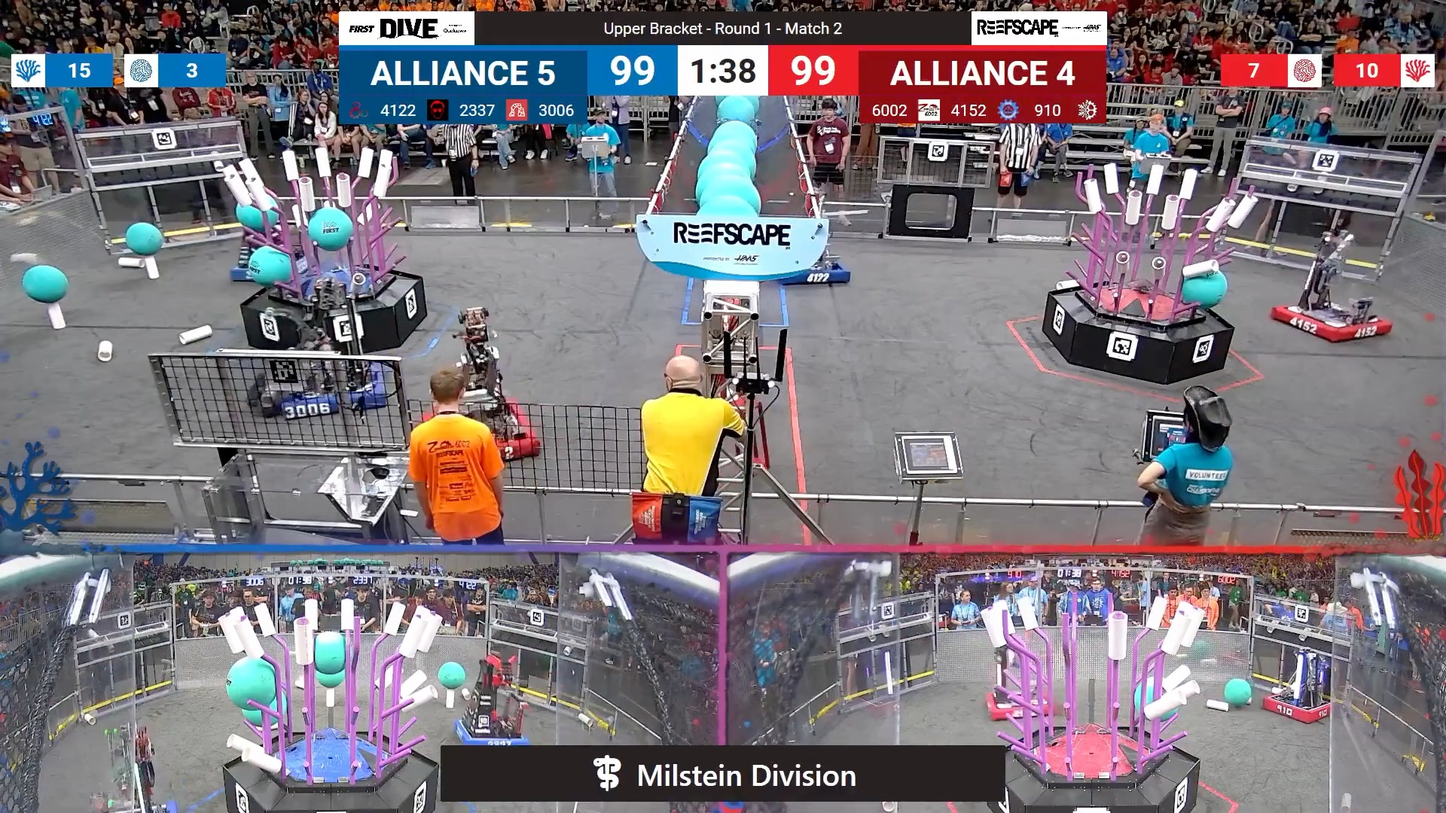bumpers: (253, 356, 392, 423), (419, 397, 546, 464), (1264, 299, 1396, 349), (444, 714, 535, 749), (224, 253, 313, 288), (1255, 691, 1343, 726), (981, 686, 1059, 723), (81, 790, 191, 812), (786, 260, 856, 288)
